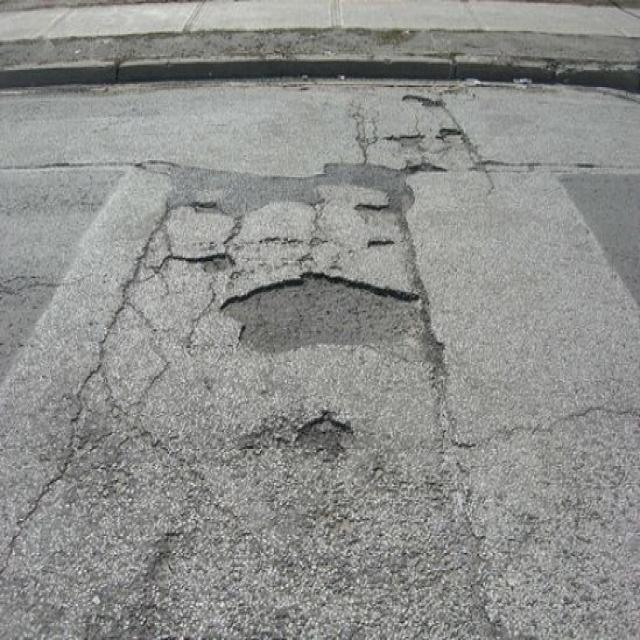pothole: (213, 264, 421, 353)
